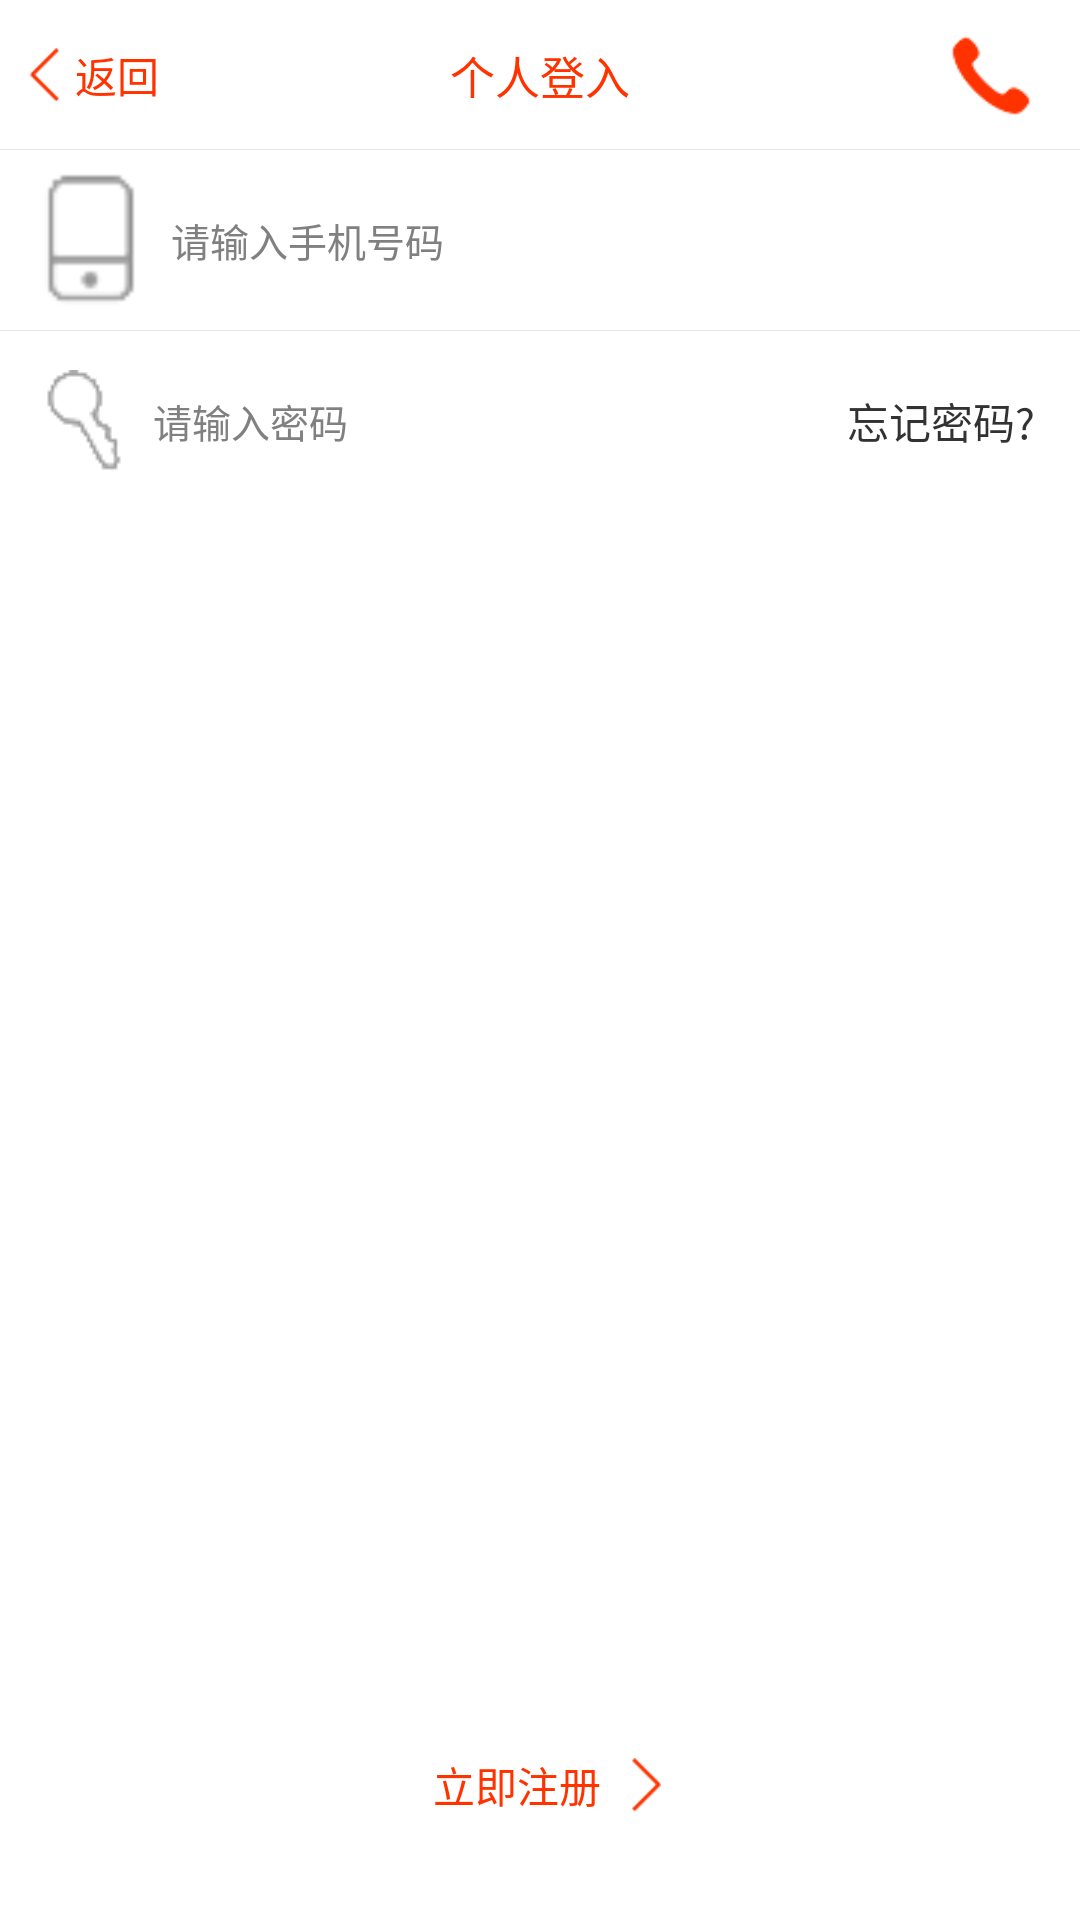

Icons on this 1080 × 1920 Android screen, each with the point to tap as [x,y]:
forward: [646,1785]
key: [84,420]
